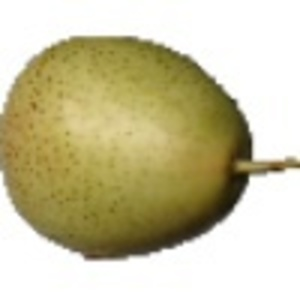pera: (1, 34, 300, 263)
